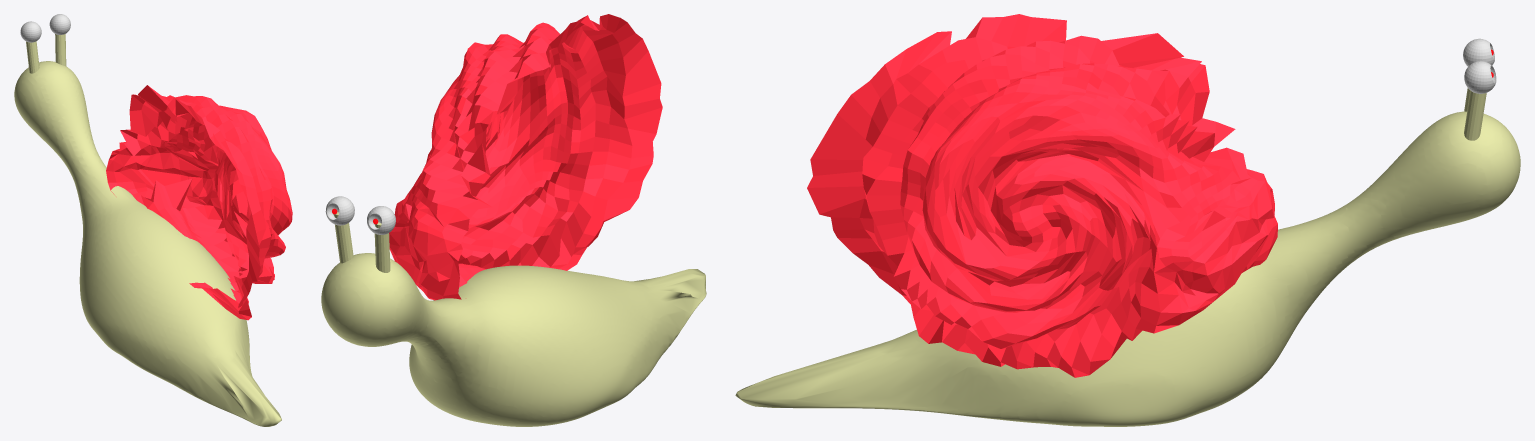
The model's file is caracol1.glb.
3 renders of one model, left to right at view 1: azimuth 30°, elevation 25°; view 2: azimuth 150°, elevation 25°; view 3: azimuth 270°, elevation 25°, orthographic. The views are drawn at different scales.
Parts seen in each view (by area): view 1: Cylinder.001, Cube, Sphere.001, Sphere; view 2: Cube, Cylinder.001, Sphere, Sphere.001; view 3: Cube, Cylinder.001, Sphere.
Part boxes in pixels (x1,y1,x2,y2): Cylinder.001: (14,34,281,426); Cube: (106,85,292,320); Sphere.001: (20,21,41,42); Sphere: (49,14,70,34); Cube: (389,14,662,300); Cylinder.001: (321,212,706,426); Sphere: (325,196,354,225); Sphere.001: (367,206,395,234); Cube: (807,14,1277,377); Cylinder.001: (735,88,1520,426); Sphere: (1464,61,1496,93).
Bounding box in the file's own units: 1.56 × 2.65 × 4.76.
